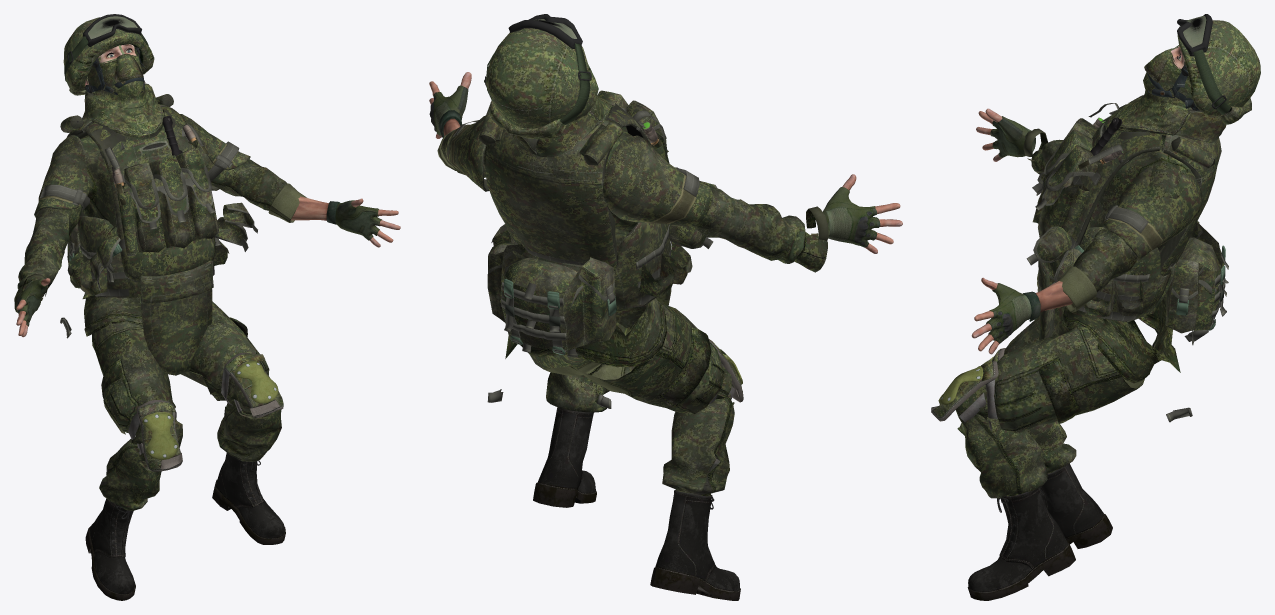
The model's file is corpse_side.glb.
3 views of the same model, side by side, from view 1: azimuth 30°, elevation 25°; view 2: azimuth 150°, elevation 25°; view 3: azimuth 270°, elevation 25° (orthographic). The views are drawn at different scales.
Parts seen in each view (by area): view 1: Object_2; view 2: Object_2; view 3: Object_2.
Part boxes in pixels (x1,y1,x2,y2): Object_2: [14, 14, 400, 600]; Object_2: [429, 14, 902, 600]; Object_2: [931, 14, 1260, 600].
Bounding box in the file's own units: 1.27 × 1.61 × 0.8264.
5 materials, 5 textured.
